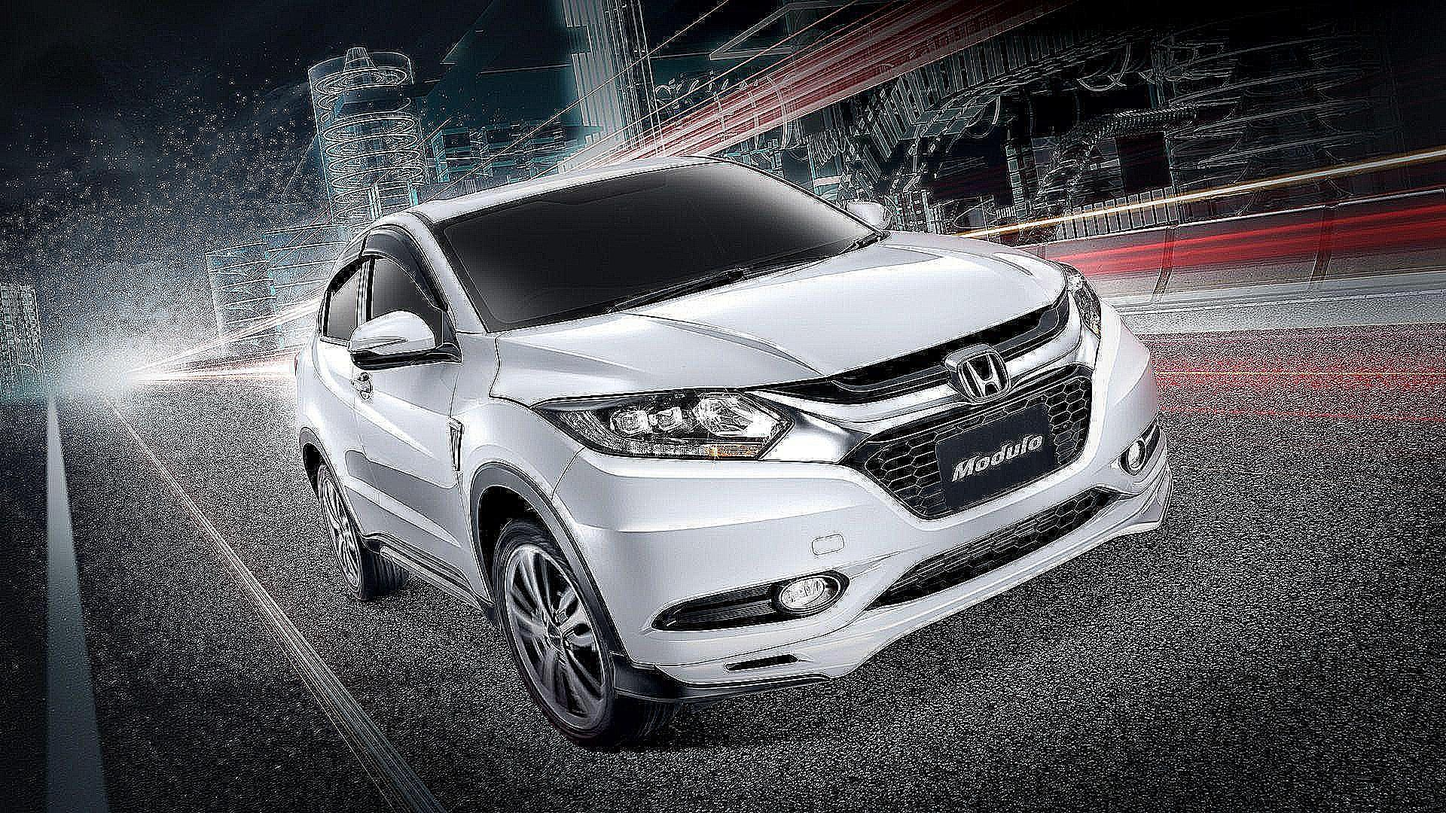Car hood: (492, 226, 1071, 460)
Driver-s door - -F-R-: (355, 212, 483, 622)
Fender - -F-R-: (450, 331, 587, 557)
Front bumper: (545, 297, 1174, 703)
Headlight - -L-: (1057, 261, 1103, 346)
Headlight - -R-: (529, 385, 793, 466)
Passenger-s door - -R-R-: (314, 216, 378, 588)
Rear light - -R-: (354, 511, 501, 627)
Side mirror - -R-: (347, 309, 462, 372)
